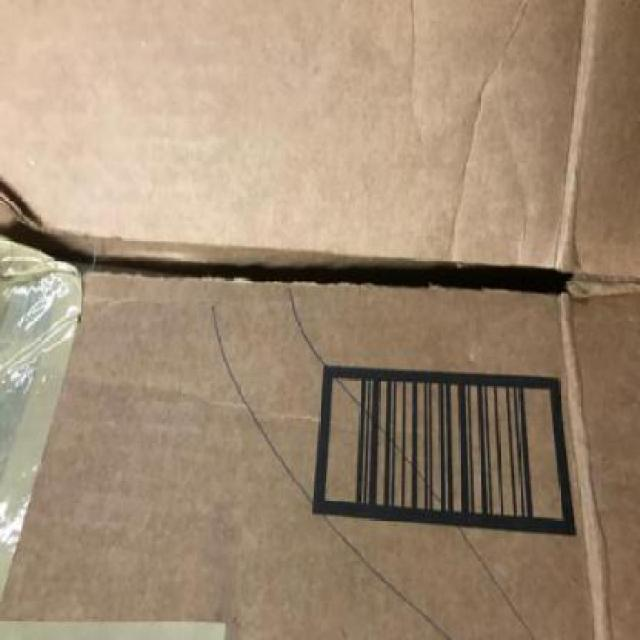CARDBOARD: (0, 0, 638, 638), (0, 271, 638, 639), (0, 0, 638, 281)
